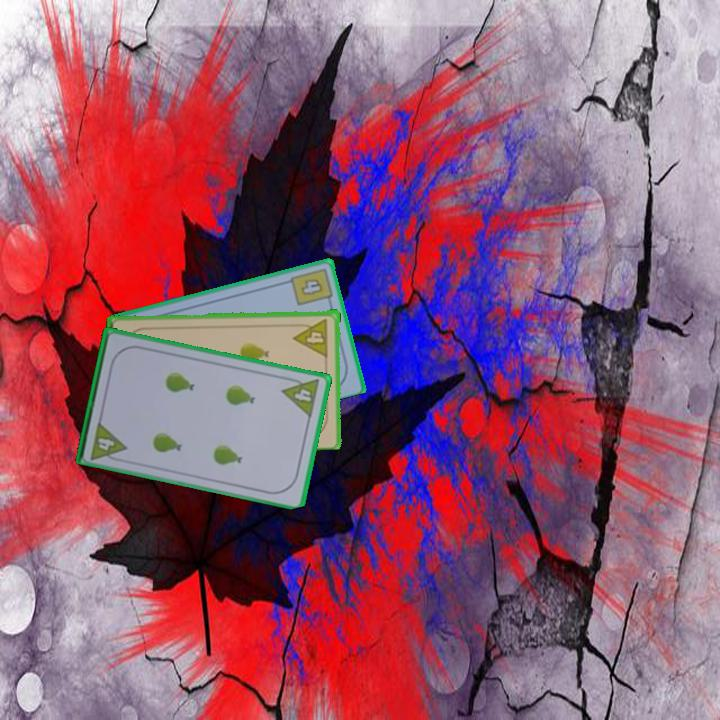4b: (287, 264, 335, 309)
4p: (279, 373, 322, 420), (87, 417, 129, 465), (291, 314, 331, 358)
